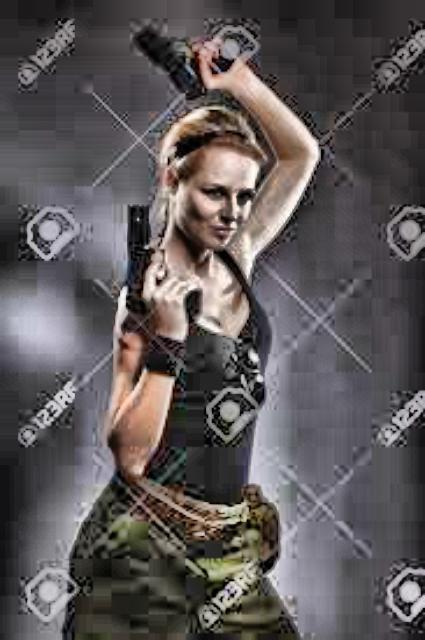pistol: (128, 16, 239, 100), (124, 200, 198, 318)
